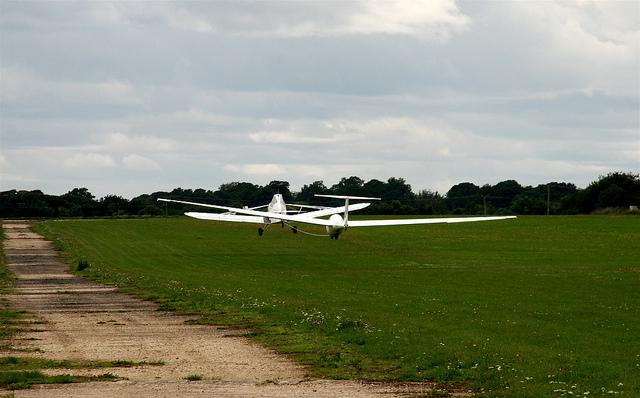Airplane: (158, 193, 518, 241)
